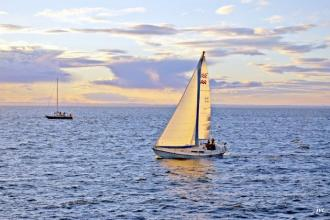fanchuan: (143, 52, 239, 162)
otherboat: (45, 110, 75, 122)
